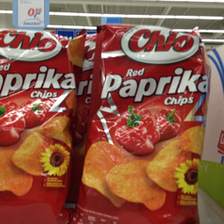chips: (82, 25, 207, 223), (1, 30, 84, 224)
